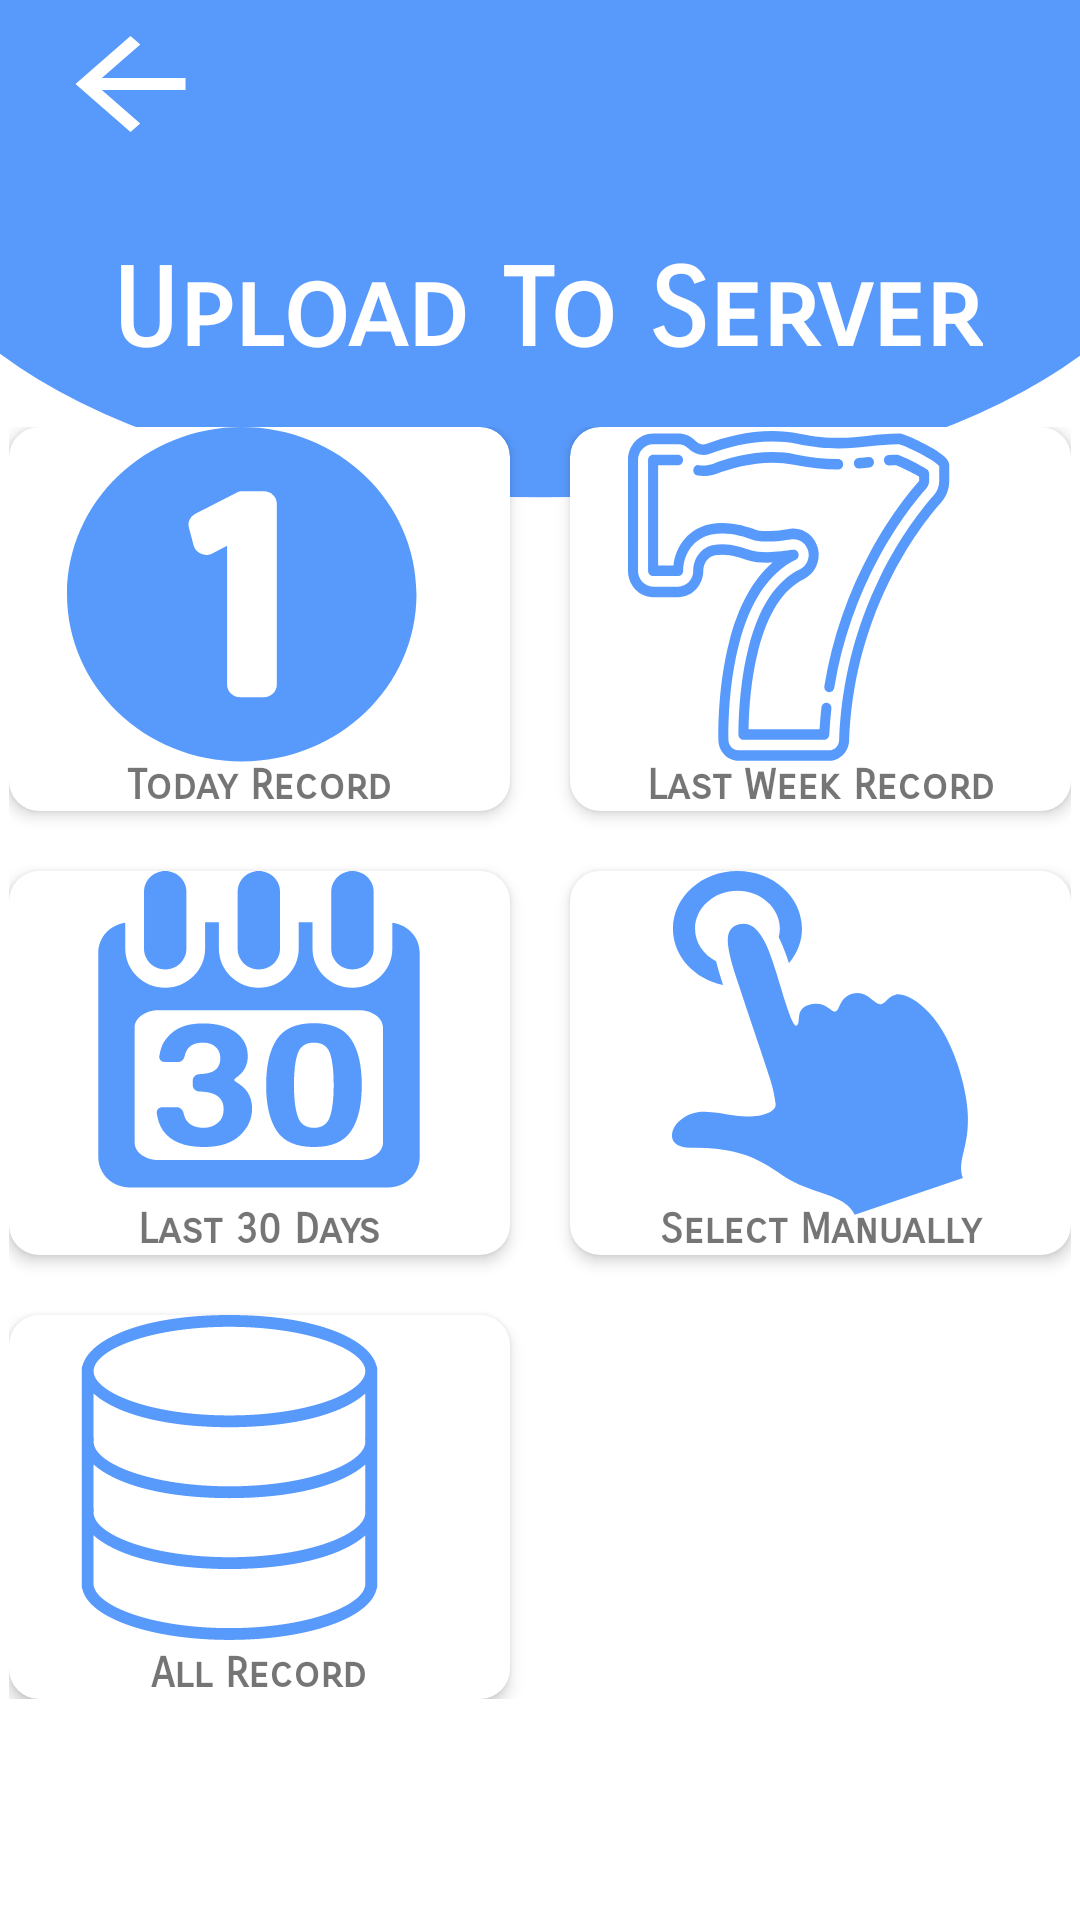

Icon bounding boxes for this 1080 x 1920 phone screenshot, format (x1, y1, x2, y2):
arrow back: (76, 36, 186, 132)
